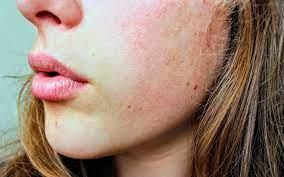Dry-Skin: (183, 19, 200, 42), (159, 77, 180, 94), (156, 14, 172, 32), (167, 56, 185, 69), (131, 96, 143, 111), (140, 79, 152, 94), (139, 38, 153, 49), (162, 110, 175, 120)
